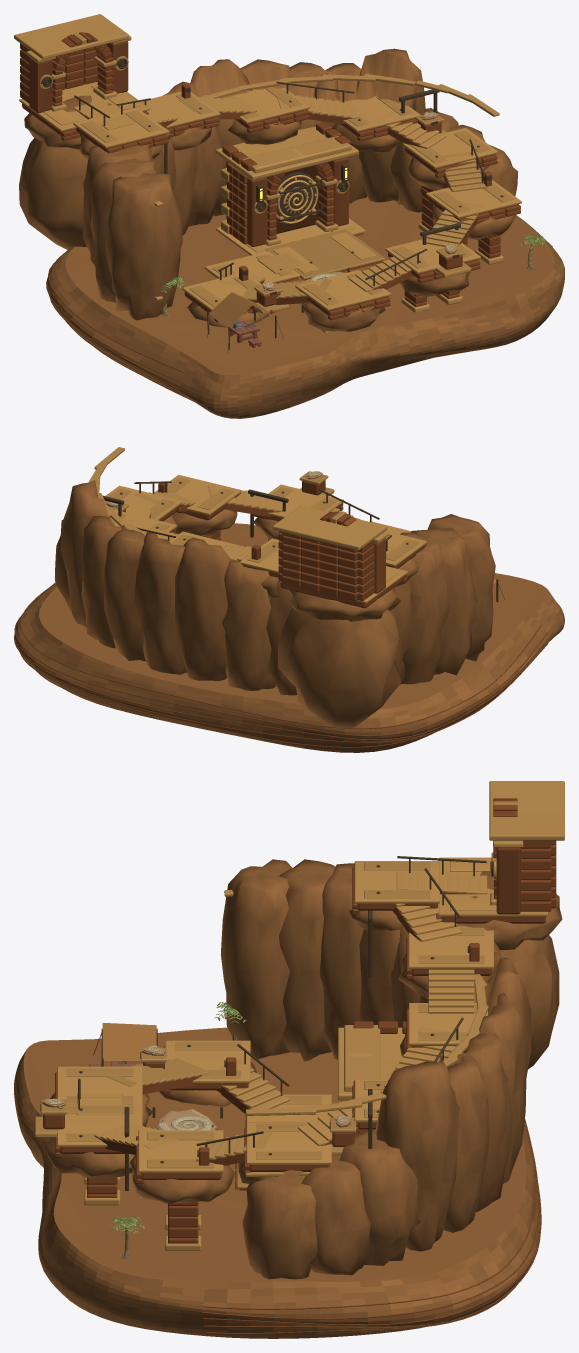
File: sahrun.glb
The picture shows the model from 3 angles, top to bottom: view 1: azimuth 30°, elevation 25°; view 2: azimuth 150°, elevation 25°; view 3: azimuth 270°, elevation 25°; orthographic projection. The views are drawn at different scales.
Visible parts, largest first — view 1: static_mineral, static_metal, static_organic; view 2: static_mineral, static_organic, static_metal; view 3: static_mineral, static_organic, static_metal.
Part boxes in pixels (box(x1,y1,x2,y2)): static_mineral: box(14, 14, 564, 418); static_metal: box(41, 58, 503, 301); static_organic: box(160, 89, 546, 352); static_mineral: box(14, 447, 564, 752); static_organic: box(103, 489, 505, 602); static_metal: box(120, 481, 408, 554); static_mineral: box(14, 781, 564, 1338); static_organic: box(93, 910, 372, 1260); static_metal: box(40, 856, 493, 1163).
Bounding box in the file's own units: 24.48 × 12.94 × 20.38.
